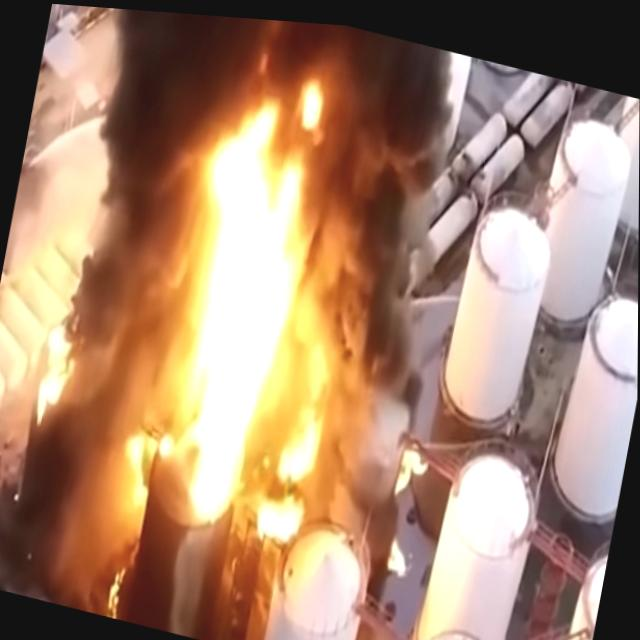fire: (155, 81, 307, 525)
smoke: (14, 1, 231, 602), (57, 3, 484, 153)
